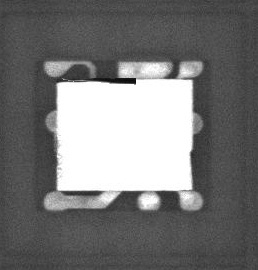DIE_BROKEN: (67, 76, 138, 86)
